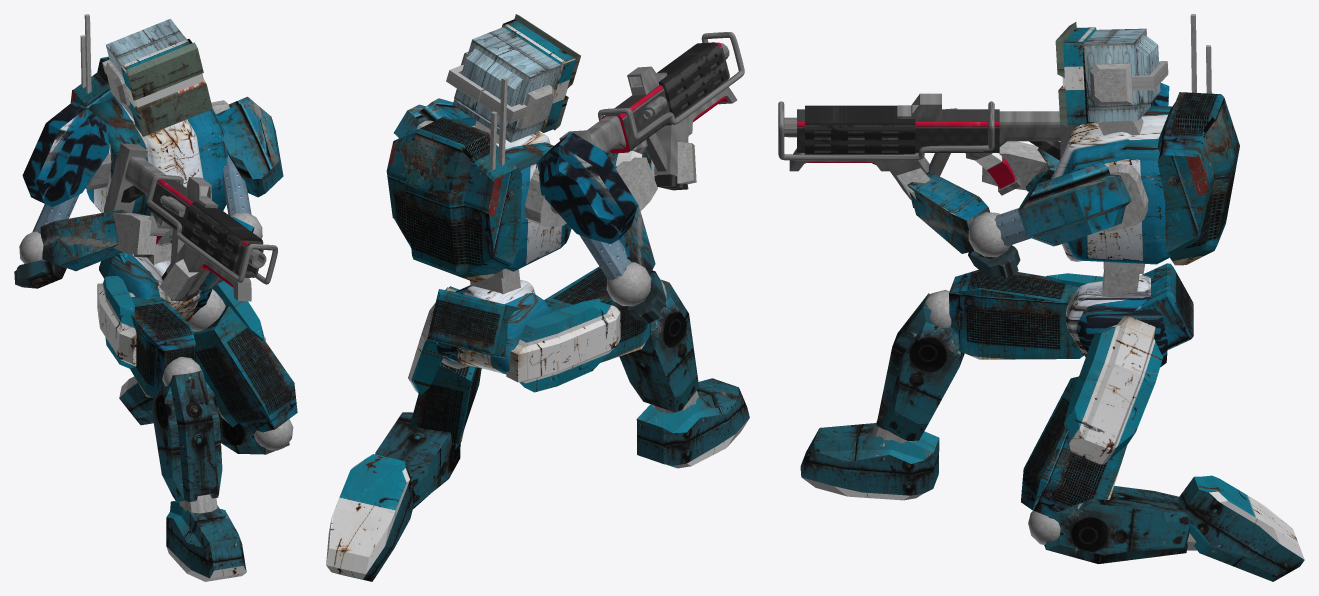
File: Robot 3 pose.fbx
3 renders of one model, left to right at view 1: azimuth 30°, elevation 25°; view 2: azimuth 150°, elevation 25°; view 3: azimuth 270°, elevation 25°, orthographic. The views are drawn at different scales.
Visible parts, largest first — view 1: Cube.001, Icosphere.001, Cube.019, Cube.005, Icosphere.003, Icosphere, Icosphere.004, Icosphere.006, Icosphere.005, Cube.023, Cube.020, Icosphere.002 (+4 smaller); view 2: Cube.019, Cube.001, Cube.005, Icosphere, Icosphere.004, Cube.012, Cube.020, Cube.023, Icosphere.003, Icosphere.001, Icosphere.002, Icosphere.006 (+4 smaller); view 3: Cube.019, Cube.001, Icosphere.001, Icosphere, Cube.005, Icosphere.002, Cube.023, Icosphere.003, Cube.012, Icosphere.005, Cube.020, Icosphere.007 (+2 smaller).
Part boxes in pixels (x1=…): Cube.001: x1=104, y1=143, x2=277, y2=301; Icosphere.001: x1=188, y1=281, x2=297, y2=433; Cube.019: x1=70, y1=14, x2=229, y2=245; Cube.005: x1=102, y1=18, x2=212, y2=136; Icosphere.003: x1=151, y1=356, x2=222, y2=513; Icosphere: x1=97, y1=275, x2=196, y2=398; Icosphere.004: x1=22, y1=101, x2=109, y2=234; Icosphere.006: x1=14, y1=209, x2=129, y2=288; Icosphere.005: x1=216, y1=96, x2=283, y2=216; Cube.023: x1=166, y1=500, x2=246, y2=581; Cube.020: x1=99, y1=252, x2=212, y2=322; Icosphere.002: x1=217, y1=410, x2=293, y2=454; Cube.019: x1=386, y1=77, x2=571, y2=282; Cube.001: x1=559, y1=32, x2=744, y2=190; Cube.005: x1=446, y1=14, x2=580, y2=142; Icosphere: x1=506, y1=266, x2=650, y2=392; Icosphere.004: x1=537, y1=131, x2=638, y2=280; Cube.012: x1=326, y1=454, x2=415, y2=581; Cube.020: x1=427, y1=279, x2=550, y2=374; Cube.023: x1=636, y1=378, x2=749, y2=468; Icosphere.003: x1=619, y1=278, x2=698, y2=413; Icosphere.001: x1=408, y1=286, x2=481, y2=448; Icosphere.002: x1=375, y1=412, x2=463, y2=508; Icosphere.006: x1=606, y1=205, x2=665, y2=324; Cube.019: x1=1051, y1=14, x2=1239, y2=265; Cube.001: x1=778, y1=93, x2=1079, y2=207; Icosphere.001: x1=1021, y1=316, x2=1162, y2=517; Icosphere: x1=949, y1=269, x2=1102, y2=359; Cube.005: x1=1055, y1=22, x2=1168, y2=127; Icosphere.002: x1=1028, y1=486, x2=1196, y2=563; Cube.023: x1=800, y1=423, x2=939, y2=500; Icosphere.003: x1=872, y1=289, x2=964, y2=443; Cube.012: x1=1178, y1=475, x2=1304, y2=581; Icosphere.005: x1=994, y1=162, x2=1131, y2=246; Cube.020: x1=1066, y1=263, x2=1193, y2=367; Icosphere.007: x1=907, y1=171, x2=1020, y2=278.
Bounding box in the file's own units: 584 × 1025 × 956.
